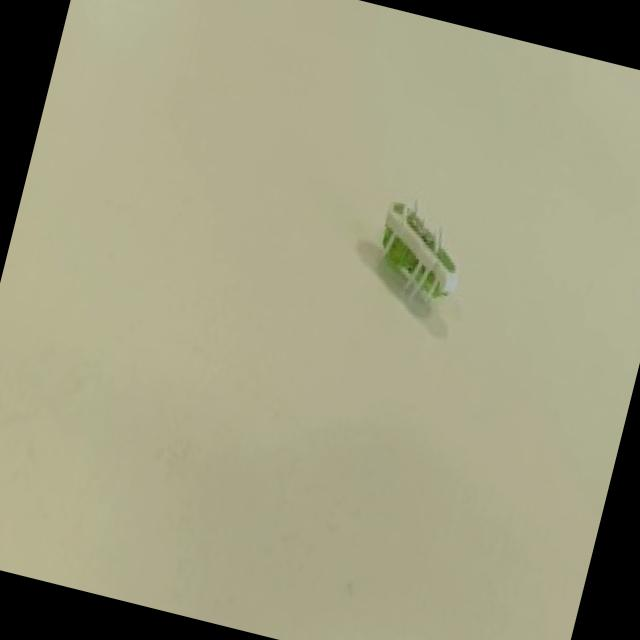4_NanoBug_Blanco: (294, 162, 511, 343)
